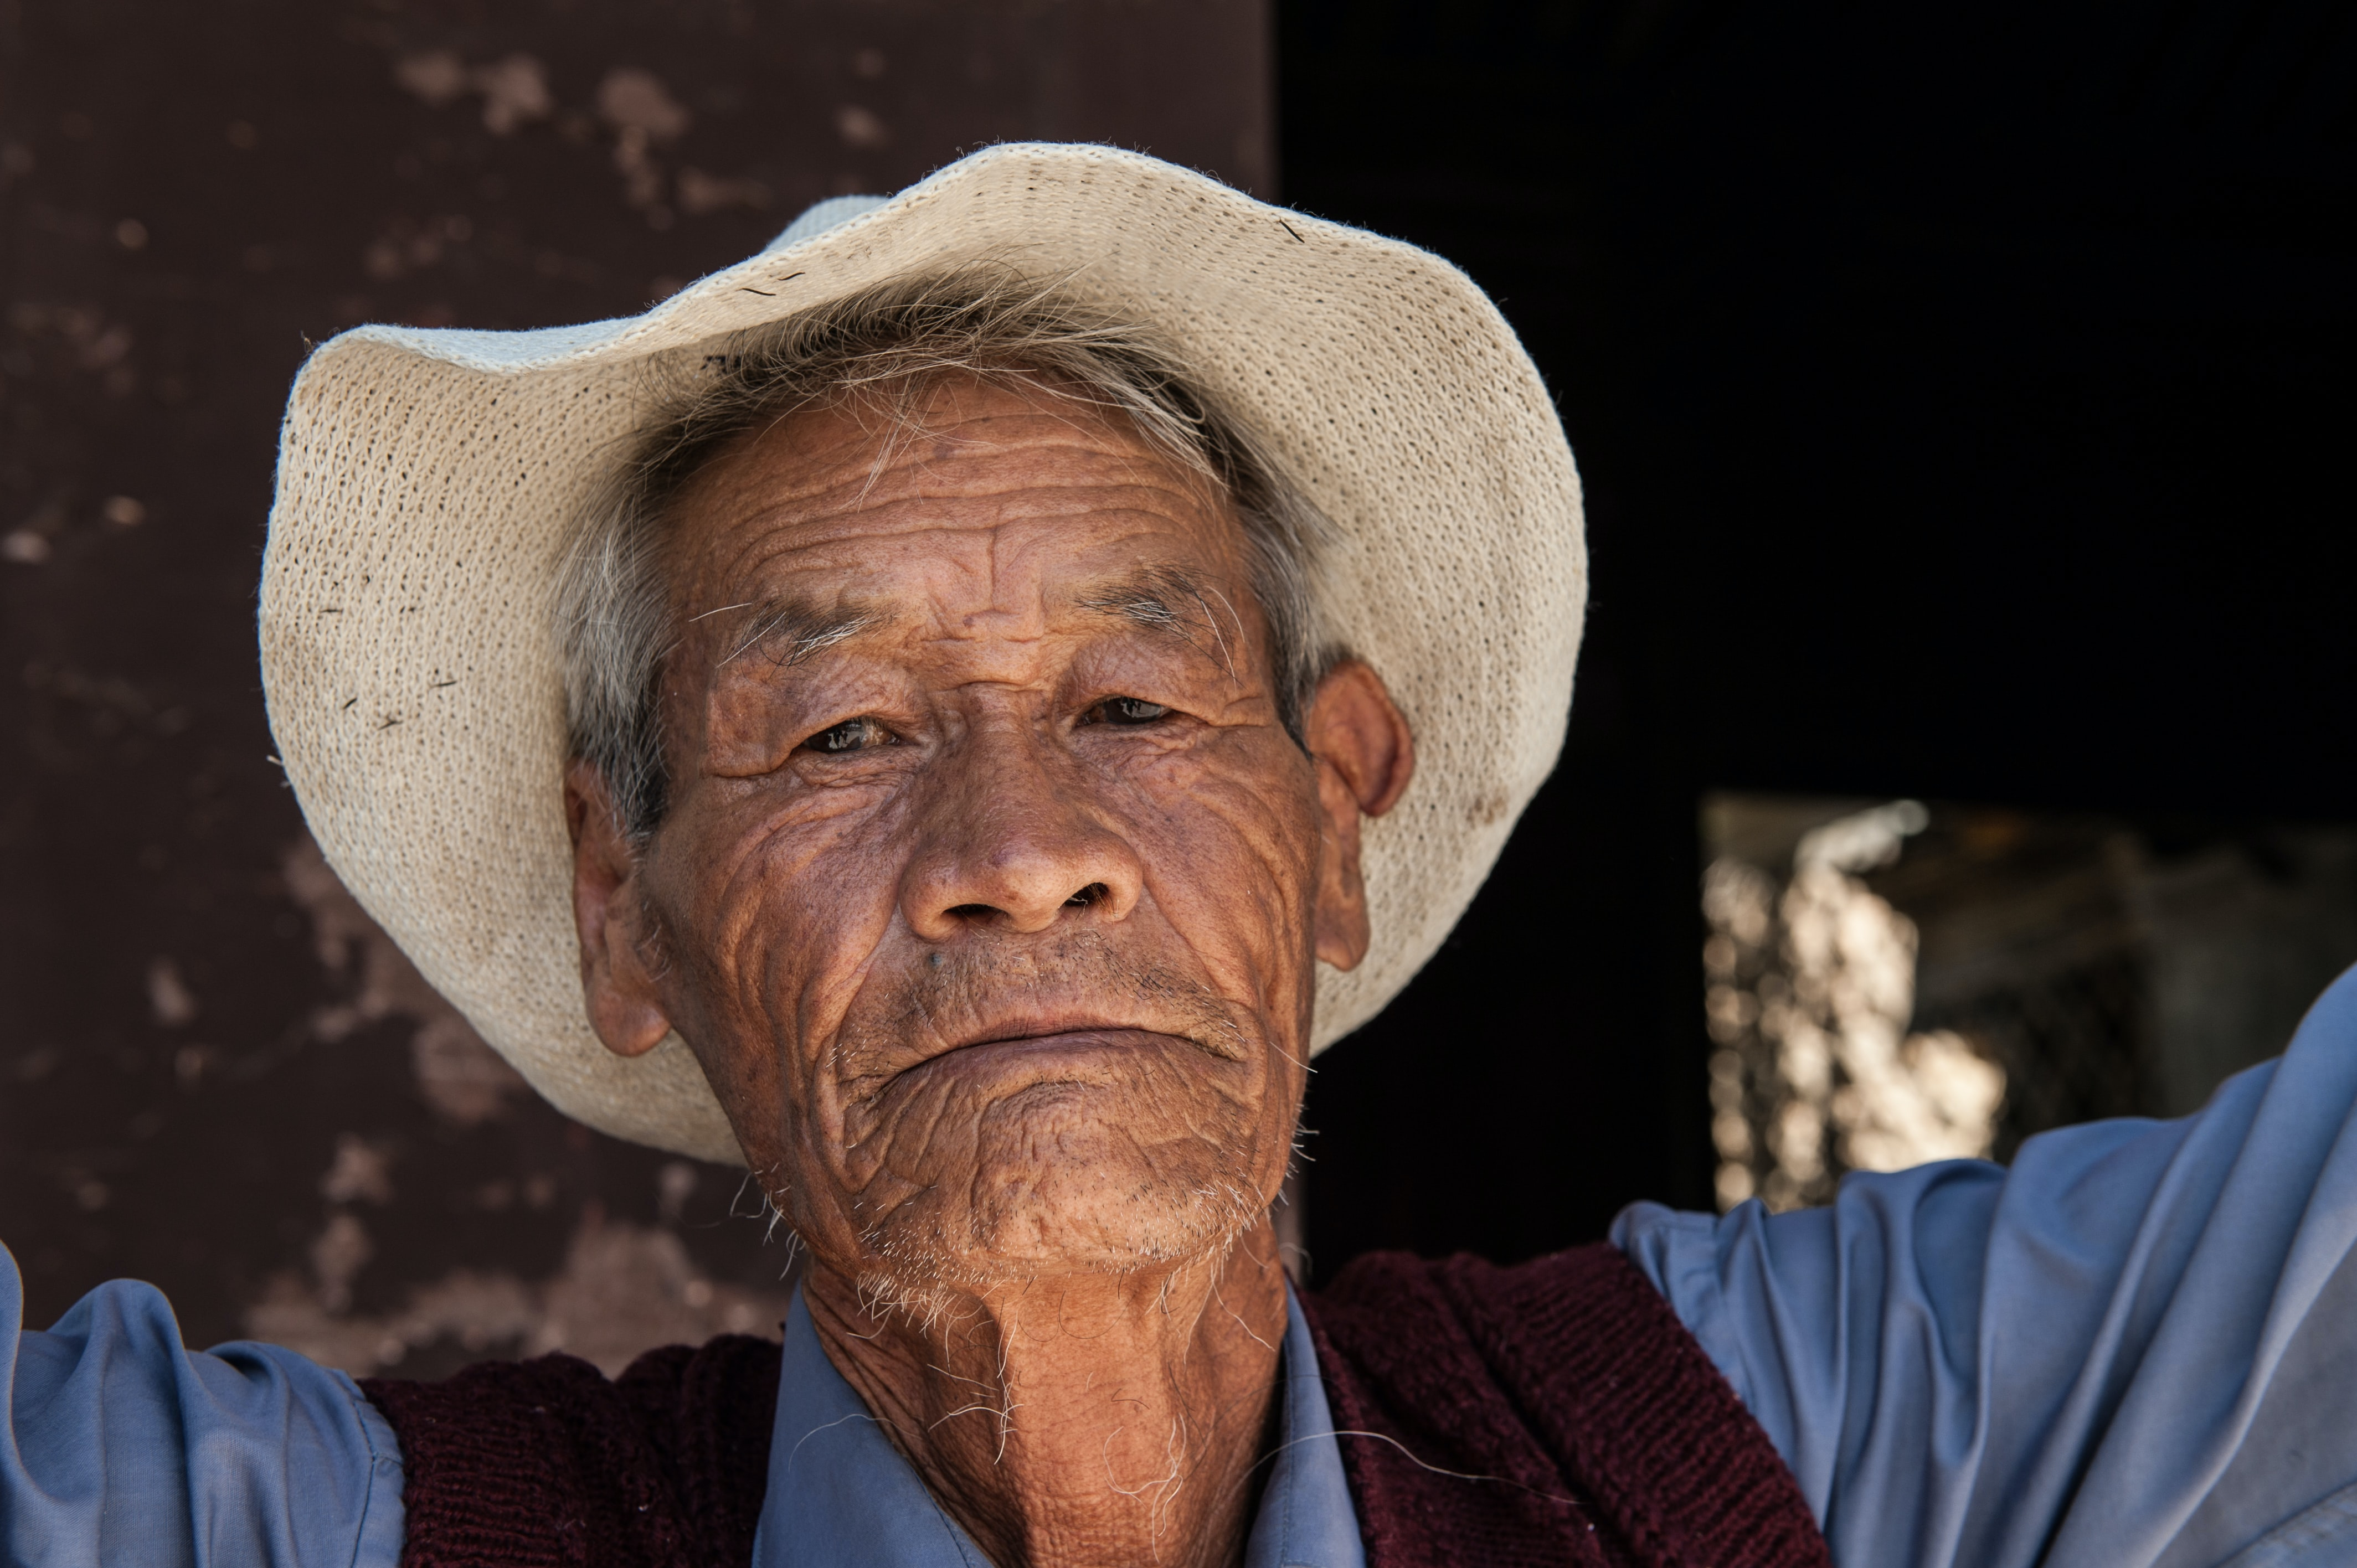WRINKLES: (752, 465, 1202, 535), (831, 1097, 1246, 1171), (1241, 817, 1314, 1015)
